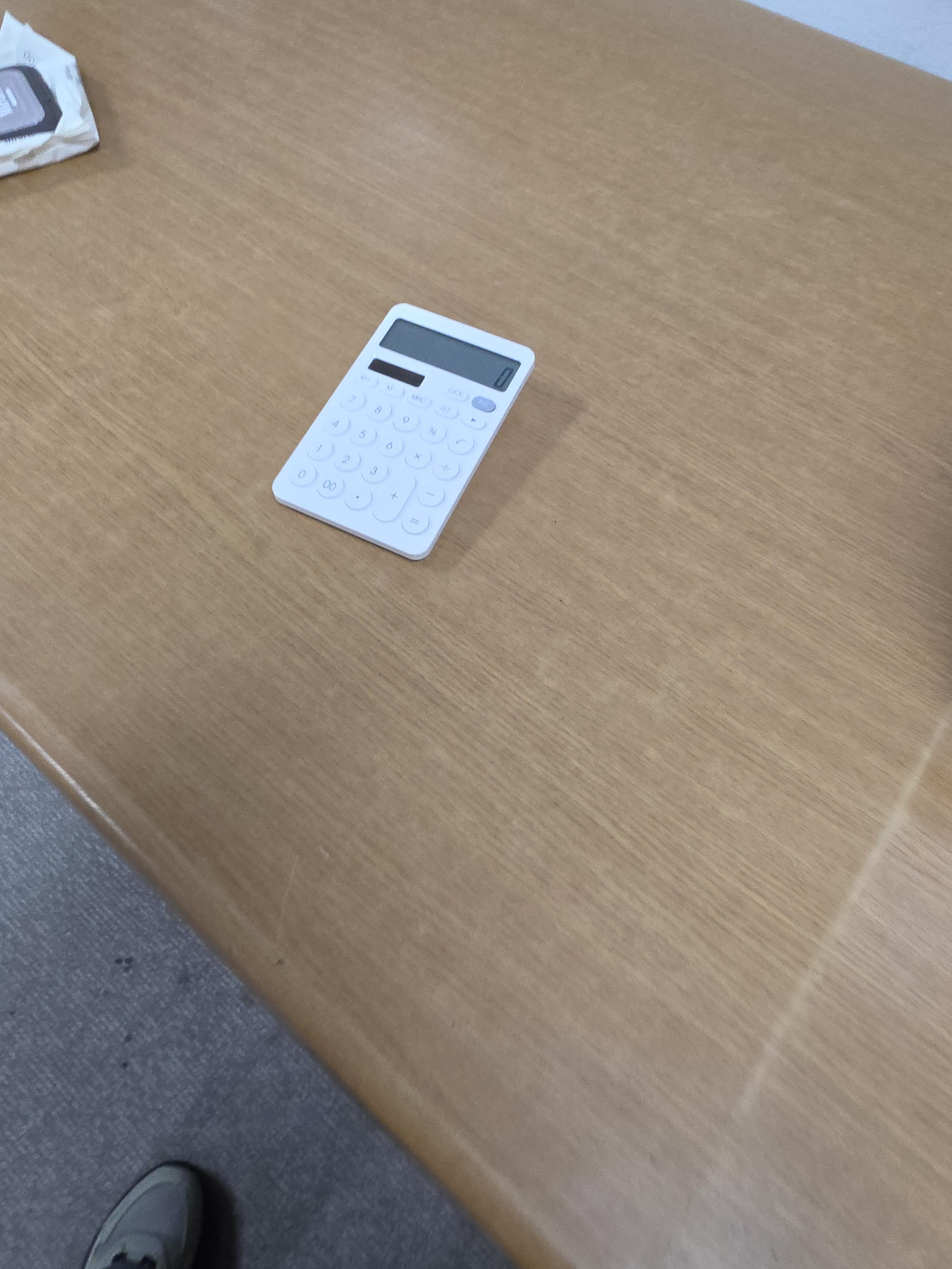calculator: (271, 303, 536, 561)
tissue: (0, 10, 100, 178)
